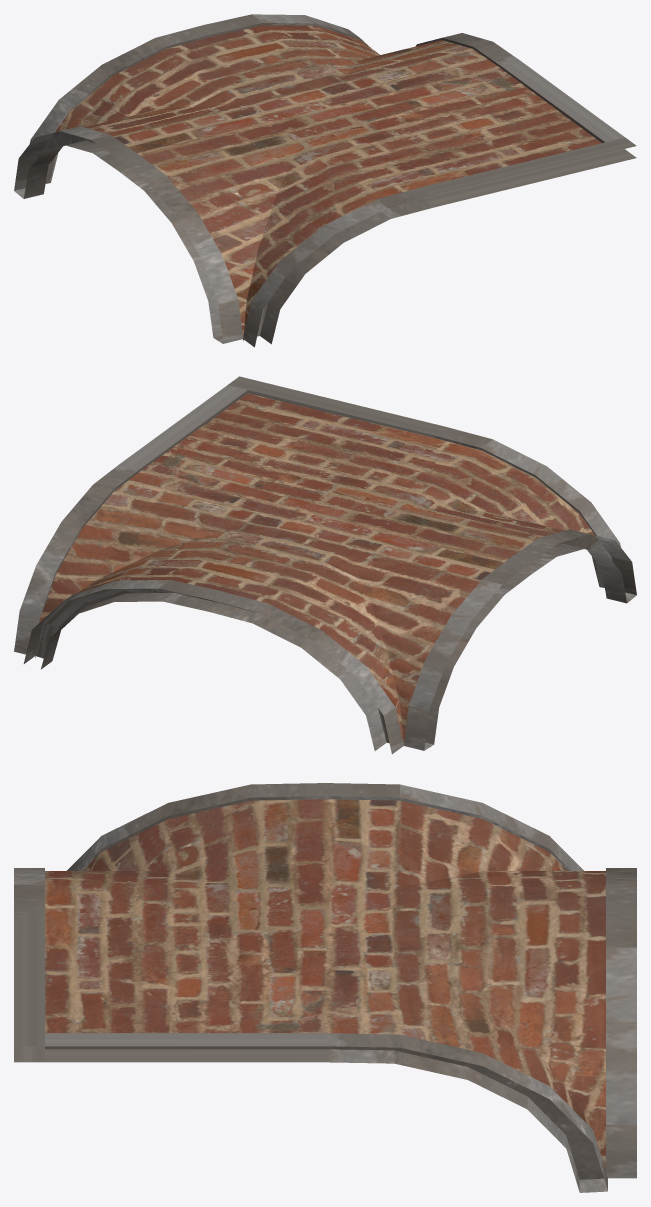
File: Roof_3Vault.fbx
3 renders of one model, top to bottom at view 1: azimuth 30°, elevation 25°; view 2: azimuth 150°, elevation 25°; view 3: azimuth 270°, elevation 25°, orthographic. The views are drawn at different scales.
Parts seen in each view (by area): view 1: Roof_3Vault; view 2: Roof_3Vault; view 3: Roof_3Vault.
Boxes of the visible parts, box(x1,y1,x2,y2) form: Roof_3Vault: box(14, 14, 636, 347); Roof_3Vault: box(14, 376, 636, 754); Roof_3Vault: box(14, 783, 636, 1192).
Size of the model in its own units: 4 by 1.05 by 4.
